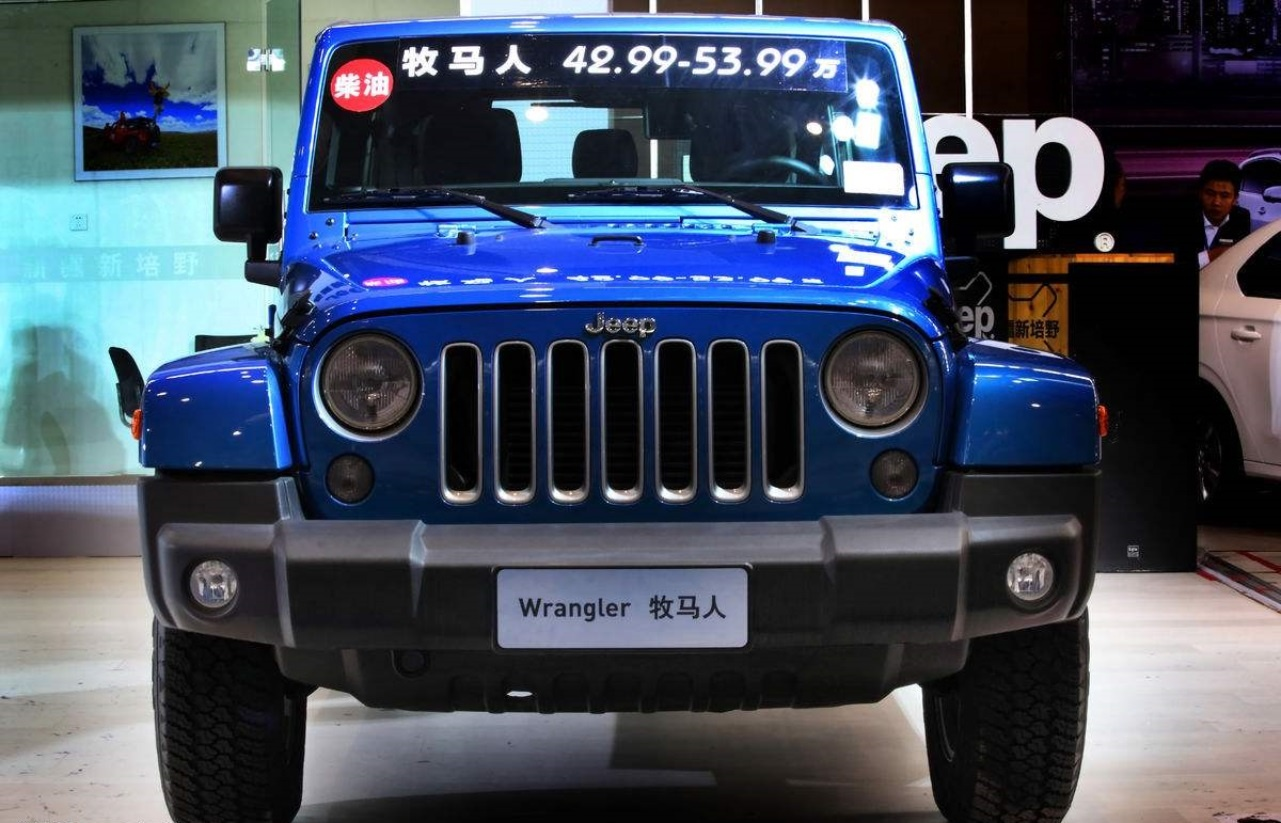jeep: (151, 18, 1092, 823)
